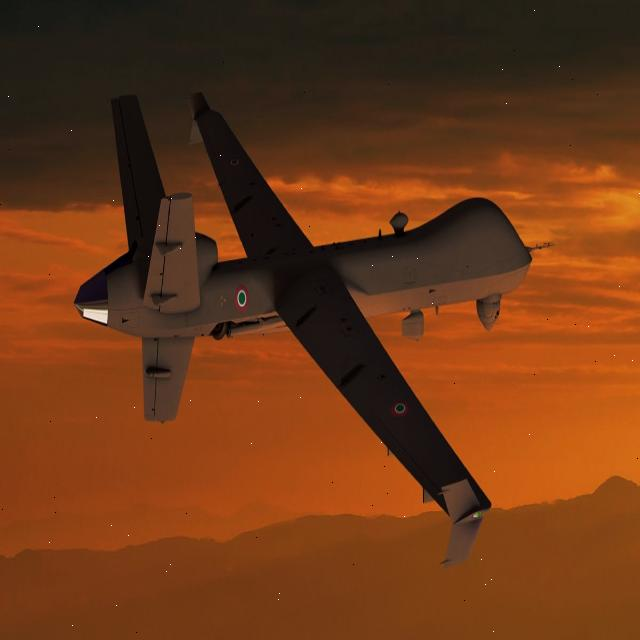MQ9: (8, 26, 541, 596)
